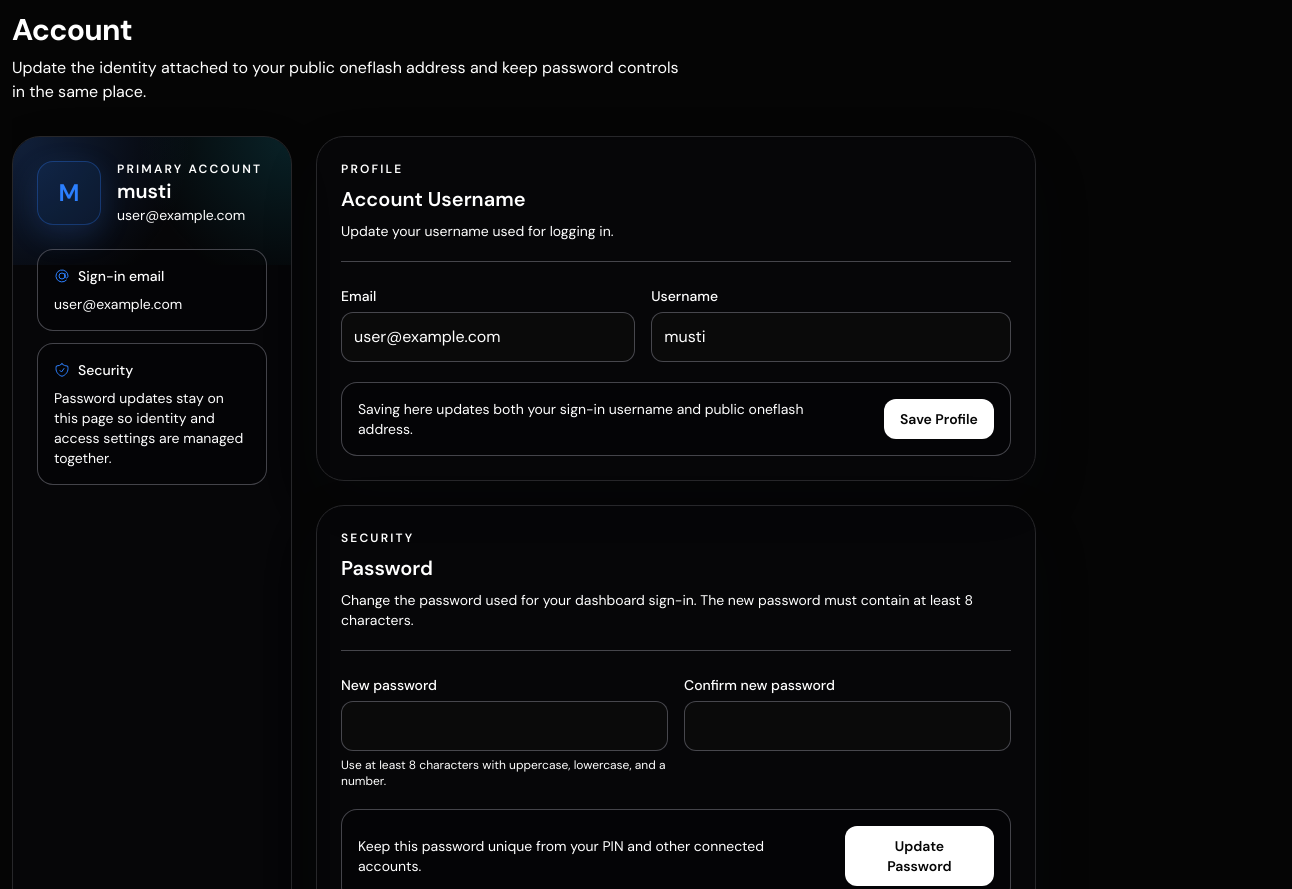
Test: AccountPage › loads account data and saves the profile form
The width and height of the screenshot is (1292, 889).
Check: the field labelled "Email" holds "user@example.com", box [341,312,635,362]
Replace the text in the field labelled "Username" with "new-name": (831, 337) [664,325,998,349]
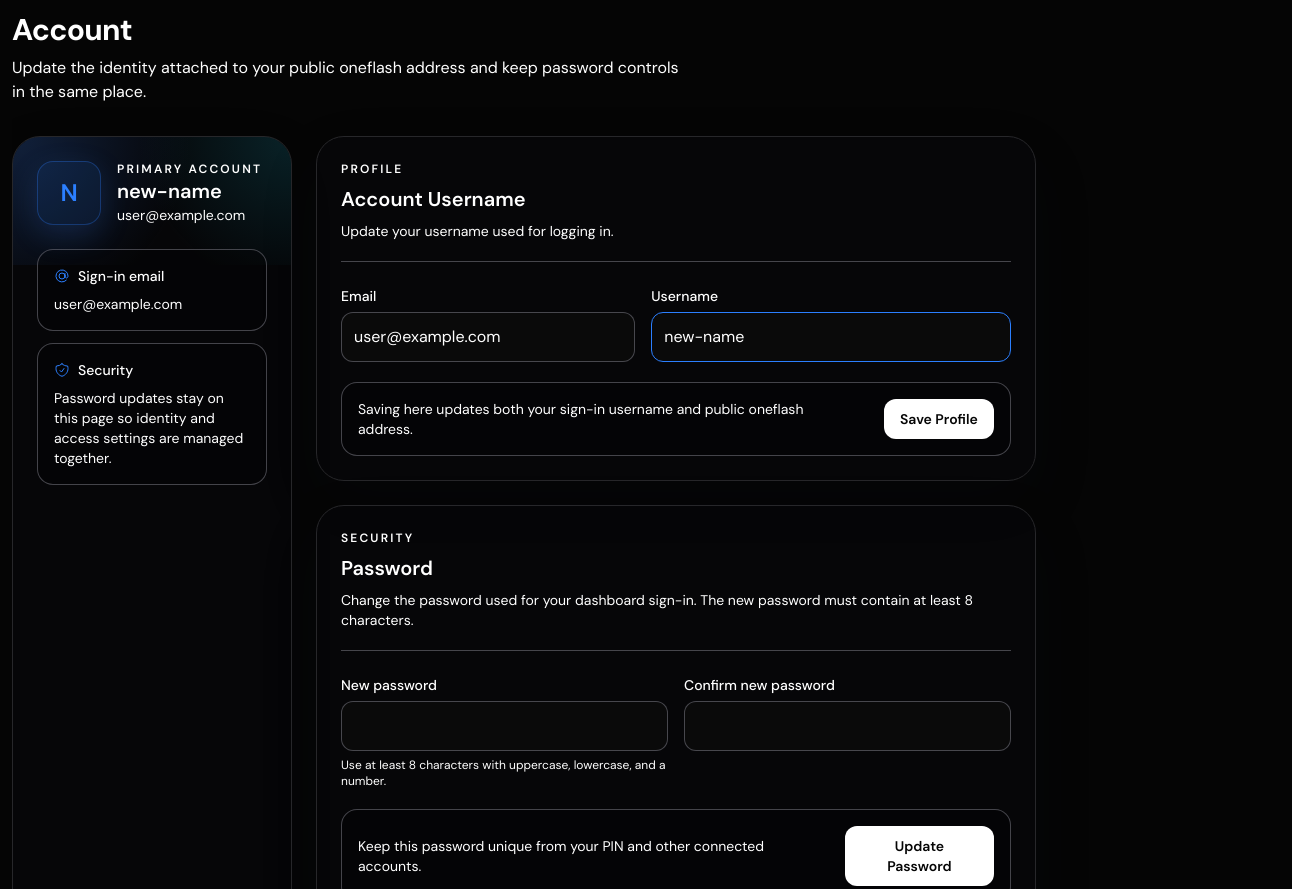
Submit the form named "save profile", box [341,286,1011,456]
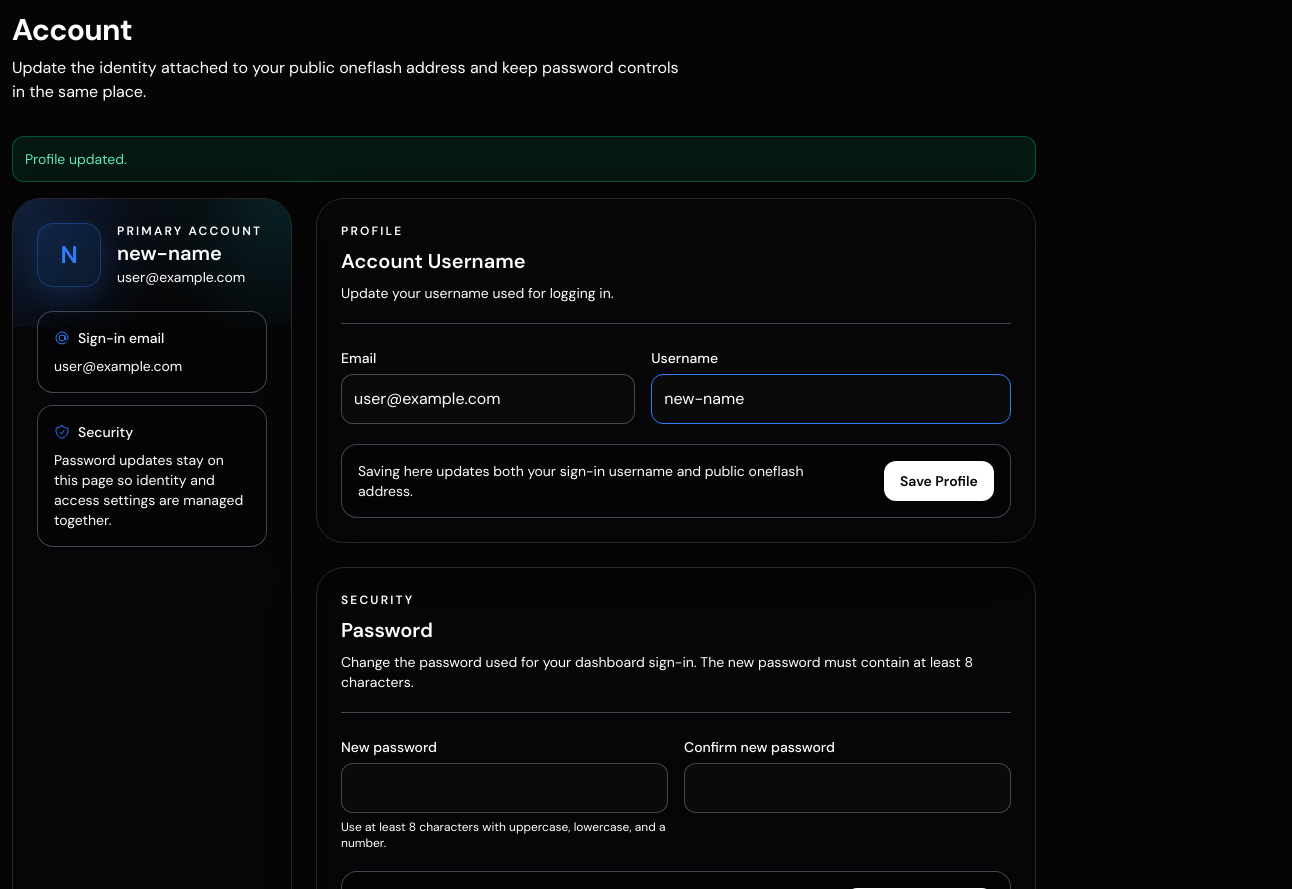
Check: the text "Profile updated." is shown, box [12,136,1036,182]
